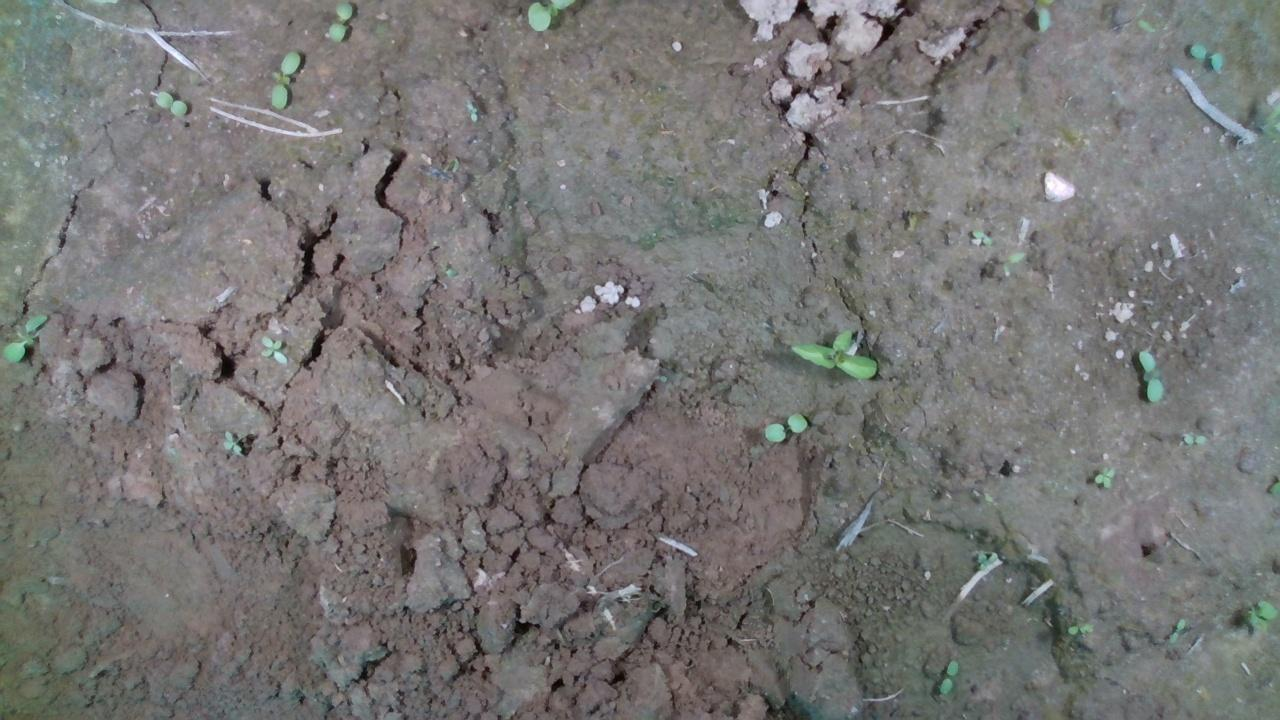weed: (788, 326, 878, 378), (268, 48, 301, 109), (1136, 347, 1164, 403), (762, 411, 808, 442), (322, 0, 353, 44), (1188, 40, 1225, 72), (153, 89, 188, 118), (258, 334, 287, 364), (938, 658, 959, 694), (220, 429, 242, 459), (1092, 463, 1115, 490), (1166, 615, 1187, 643), (1065, 619, 1094, 635), (1180, 432, 1208, 446)
